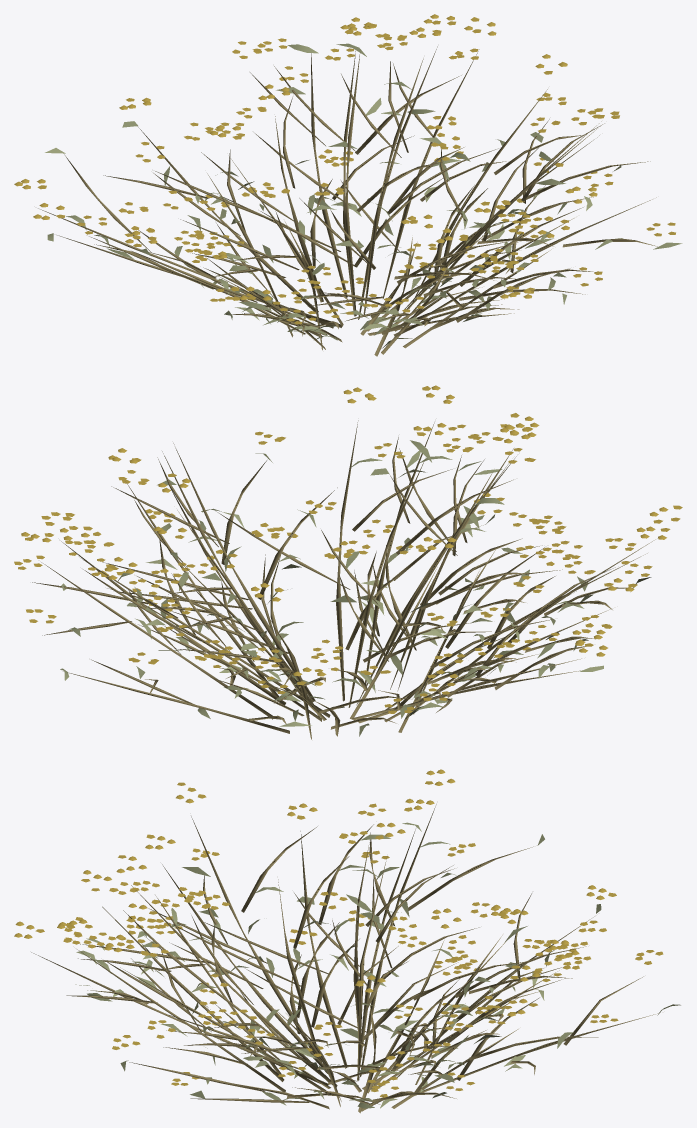
The model's file is Immortelle_Etale_LOD2.fbx.
3 renders of one model, top to bottom at view 1: azimuth 30°, elevation 25°; view 2: azimuth 150°, elevation 25°; view 3: azimuth 270°, elevation 25°, orthographic. The views are drawn at different scales.
Visible parts, largest first — view 1: Immortelle_Etale_LOD2; view 2: Immortelle_Etale_LOD2; view 3: Immortelle_Etale_LOD2.
Part boxes in pixels (<box>): Immortelle_Etale_LOD2: <box>14,14,682,356</box>; Immortelle_Etale_LOD2: <box>14,385,682,739</box>; Immortelle_Etale_LOD2: <box>14,769,680,1113</box>.
Bounding box in the file's own units: 89.98 × 35.26 × 93.28.
